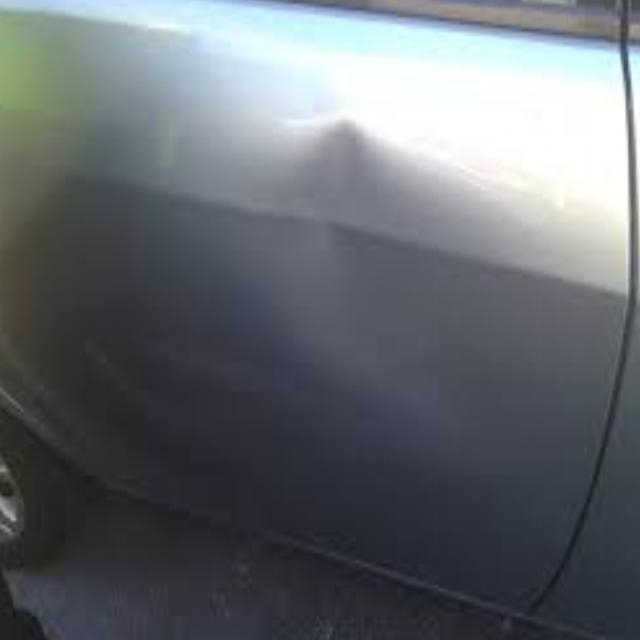dents: (286, 92, 512, 442)
